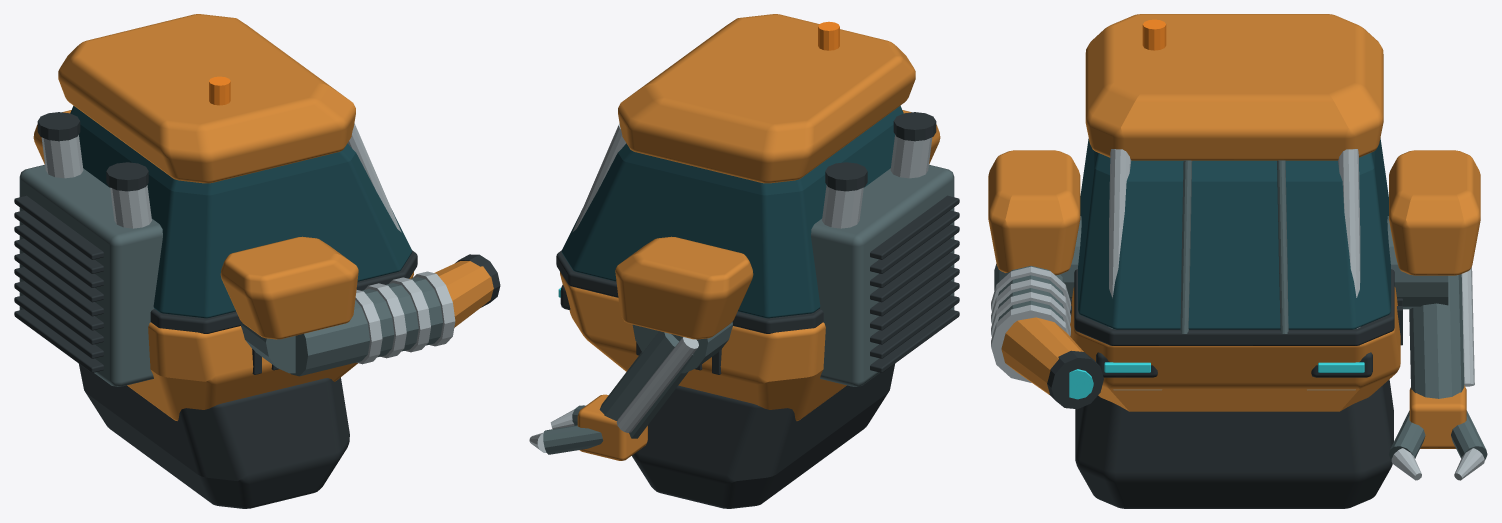
Rendered from SM_LoaderHull.fbx.
3 renders of one model, left to right at view 1: azimuth 30°, elevation 25°; view 2: azimuth 150°, elevation 25°; view 3: azimuth 270°, elevation 25°, orthographic. The views are drawn at different scales.
Visible parts, largest first — view 1: SM_LoaderHull; view 2: SM_LoaderHull; view 3: SM_LoaderHull.
Part boxes in pixels (x1,y1,x2,y2): SM_LoaderHull: (14,14,500,508); SM_LoaderHull: (529,14,959,508); SM_LoaderHull: (988,14,1487,508).
Size of the model in its own units: 134 by 150 by 145.
